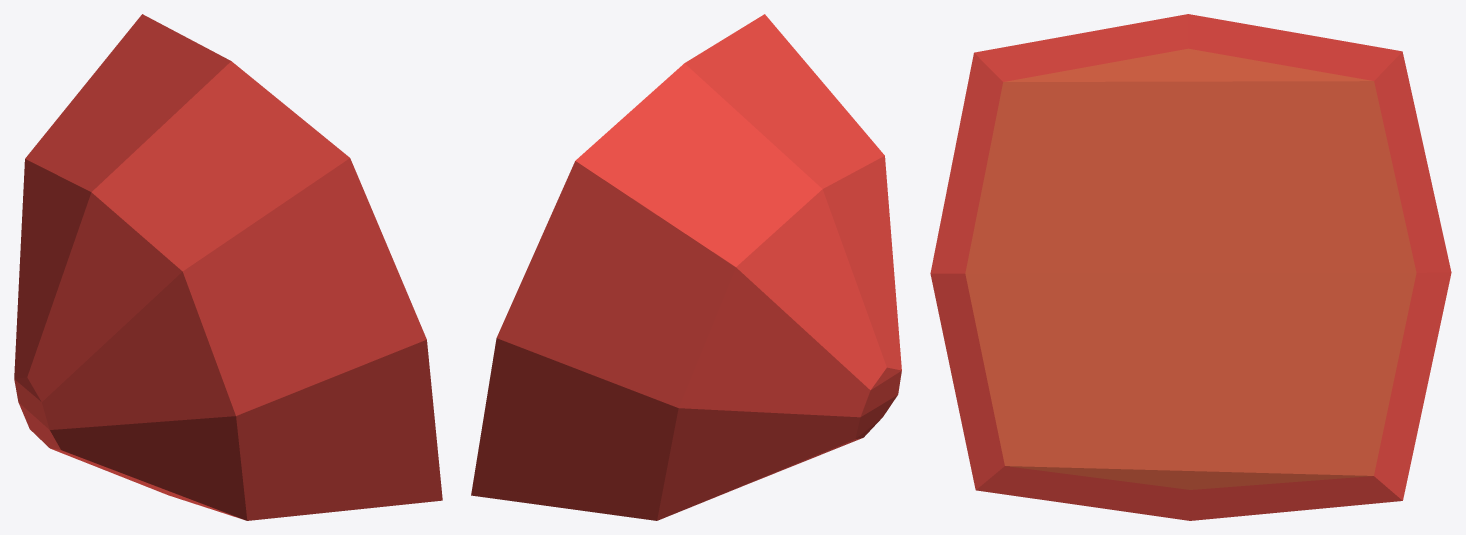
Rendered from grapefruitHalf.fbx.
3 views of the same model, side by side, from view 1: azimuth 30°, elevation 25°; view 2: azimuth 150°, elevation 25°; view 3: azimuth 270°, elevation 25° (orthographic). The views are drawn at different scales.
Parts seen in each view (by area): view 1: grapefruitHalf; view 2: grapefruitHalf; view 3: grapefruitHalf.
Boxes of the visible parts, left/top/right/bottom form: grapefruitHalf: left=14, top=14, right=442, bottom=520; grapefruitHalf: left=471, top=14, right=901, bottom=520; grapefruitHalf: left=930, top=14, right=1451, bottom=520.
Size of the model in its own units: 4.6 by 5.56 by 5.9.
1 material, 1 textured.
